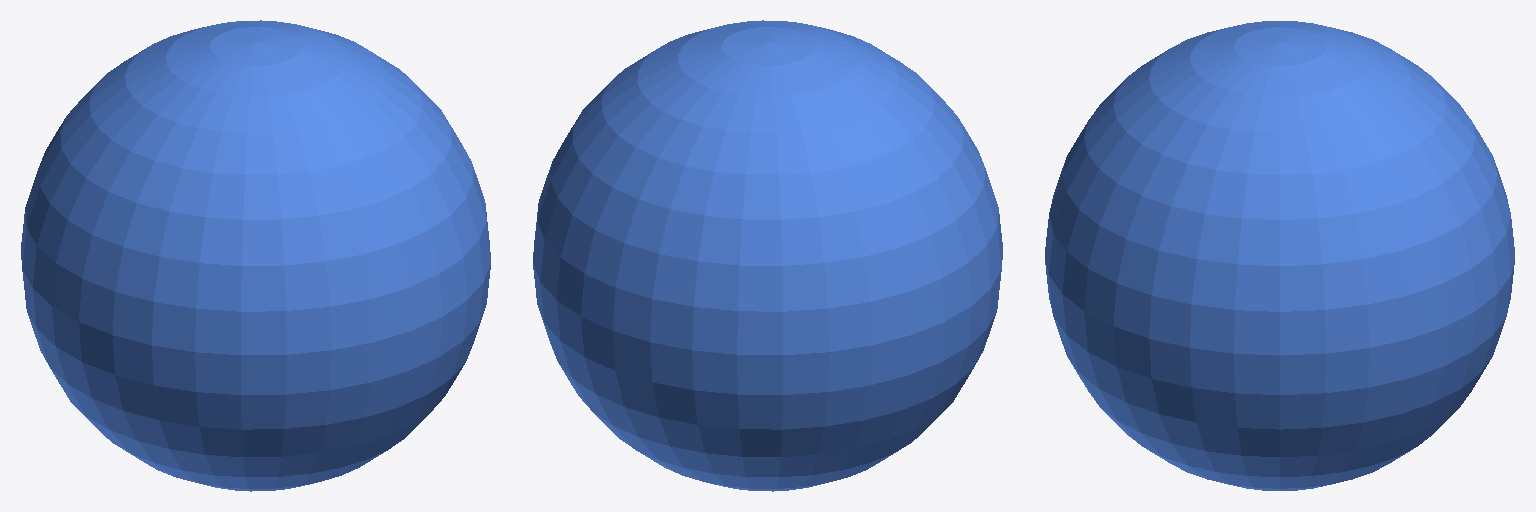
robot.urdf — fr3_hand_robot:
<?xml version="0.0" ?>
<robot name="fr3_hand_robot">
  <link name="base_link">
    <inertial>
      <origin rpy="0 0 0" xyz="0 0 0"/>
       <mass value=".1"/>
       <inertia ixx="1" ixy="0" ixz="0" iyy="1" iyz="0" izz="1"/>
    </inertial>
    
    <visual>
      <origin rpy="0 0 0" xyz="0 0 0.00"/>
      <geometry>
        <sphere radius="0.12"/>
      </geometry>
      <material name="cornflowerblue">
        <color rgba="0.3921 0.5843 0.9294 0.5"/>
      </material>
    </visual>
  </link>
</robot>

--- Facts derived from the render (not from the file) ---
Views: 3 orthographic renders of the robot side by side, from view 1: azimuth 30°, elevation 25°; view 2: azimuth 150°, elevation 25°; view 3: azimuth 270°, elevation 25°.
Robot: fr3_hand_robot — 1 links, 0 joints (none); root link base_link; default pose: every joint at zero.
Visible links, largest first — view 1: base_link; view 2: base_link; view 3: base_link.
Link boxes in pixels (bbox=[...]): base_link: bbox=[21, 20, 490, 491]; base_link: bbox=[533, 20, 1002, 491]; base_link: bbox=[1045, 21, 1514, 490].
Size in the robot's own frame: 0.24 by 0.24 by 0.24 metres.
Geometry: primitives only (box / cylinder / sphere), no mesh files.